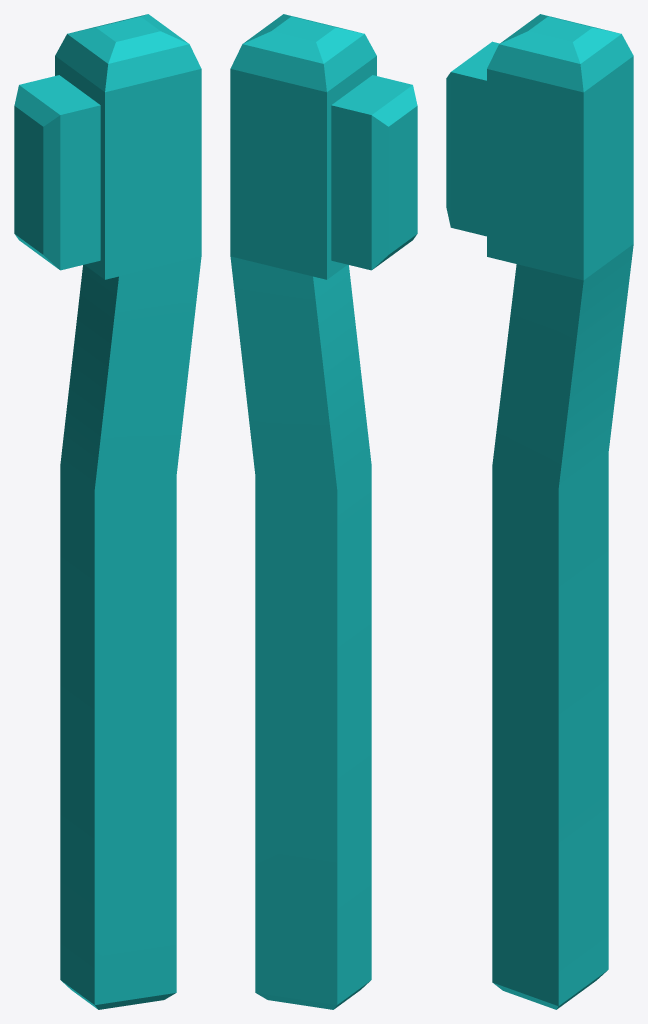
Rendered from CepilloDiente01.fbx.
3 views of the same model, side by side, from view 1: azimuth 30°, elevation 25°; view 2: azimuth 150°, elevation 25°; view 3: azimuth 330°, elevation 25° (orthographic).
Visible parts, largest first — view 1: CepilloDiente01; view 2: CepilloDiente01; view 3: CepilloDiente01.
Boxes of the visible parts, bbox=[...] form: CepilloDiente01: bbox=[14, 14, 201, 1009]; CepilloDiente01: bbox=[230, 14, 417, 1009]; CepilloDiente01: bbox=[446, 14, 633, 1009].
Size of the model in its own units: 0.0261 by 0.1623 by 0.0153.
